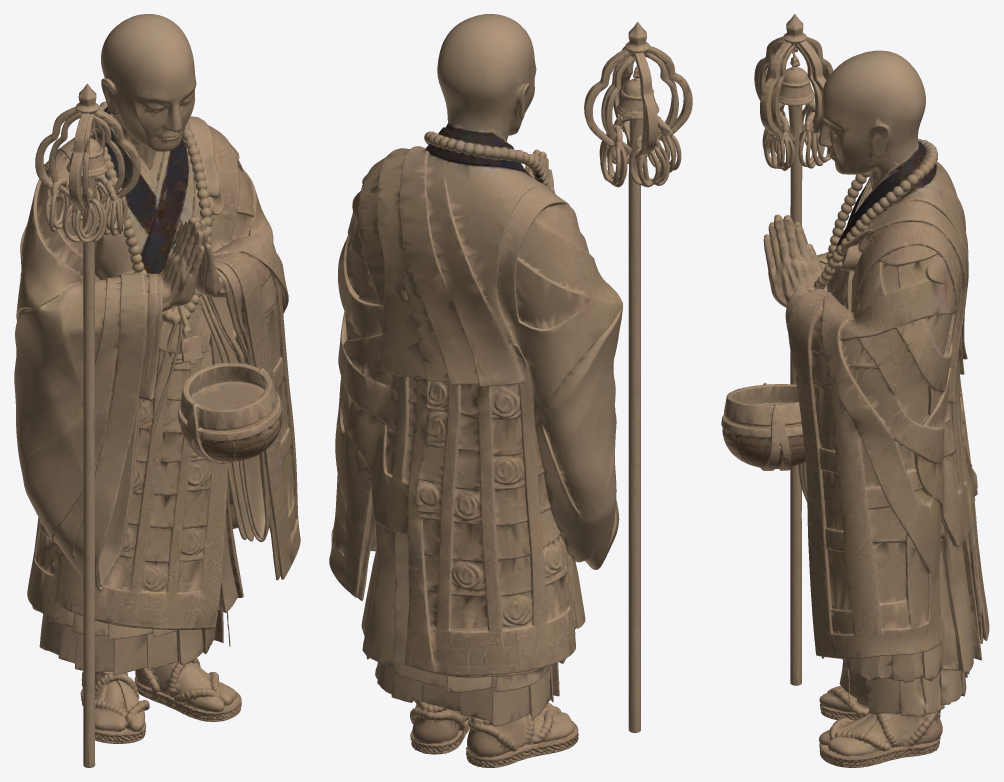
Rendered from Meshy_AI_Silent_Monk_of_Paper__1021161405_texture.glb.
3 views of the same model, side by side, from view 1: azimuth 30°, elevation 25°; view 2: azimuth 150°, elevation 25°; view 3: azimuth 270°, elevation 25° (orthographic). The views are drawn at different scales.
Bounding box in the file's own units: 0.8176 × 1.9 × 0.6818.
1 material, 1 textured.
